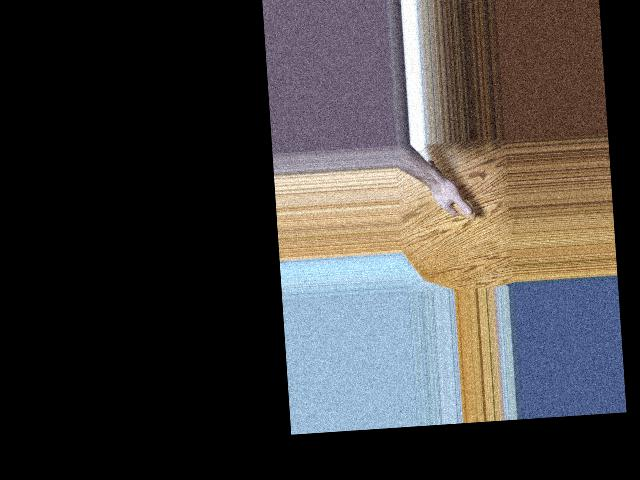sweet_potato: (422, 154, 476, 224)
